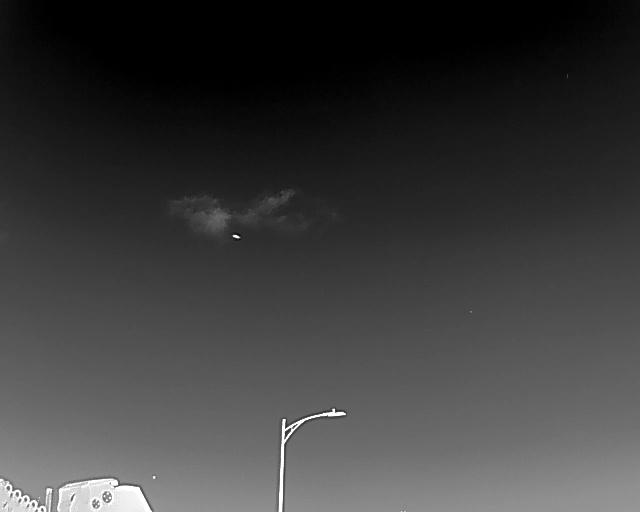fpv-drone: (231, 233, 241, 239)
